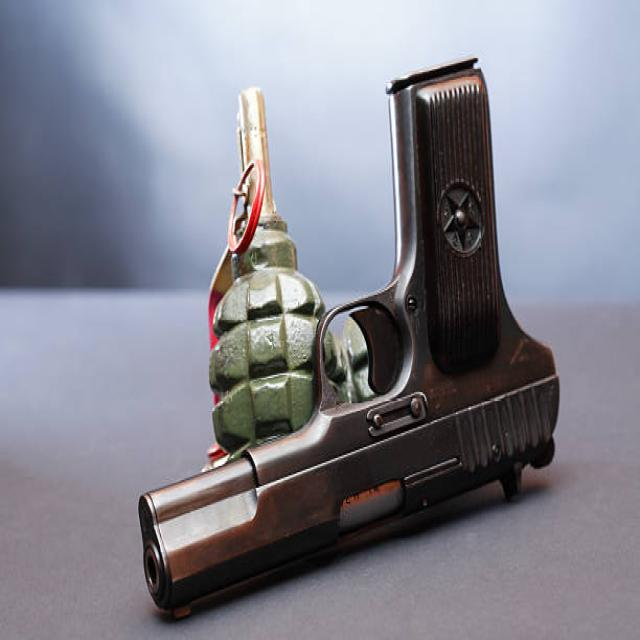grenade: (210, 85, 342, 451)
